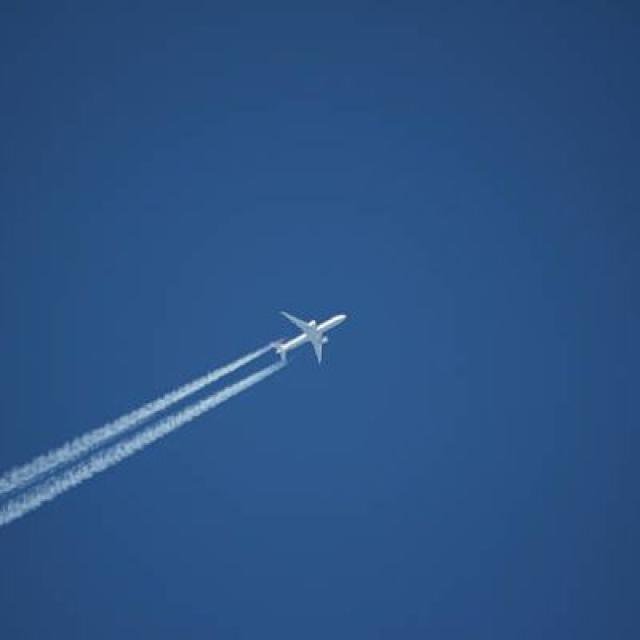Ct: (1, 281, 362, 541)
